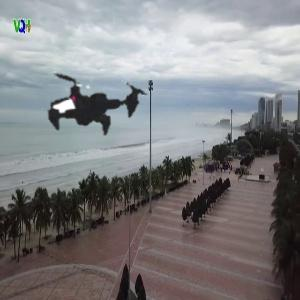drone: (19, 23, 171, 175)
